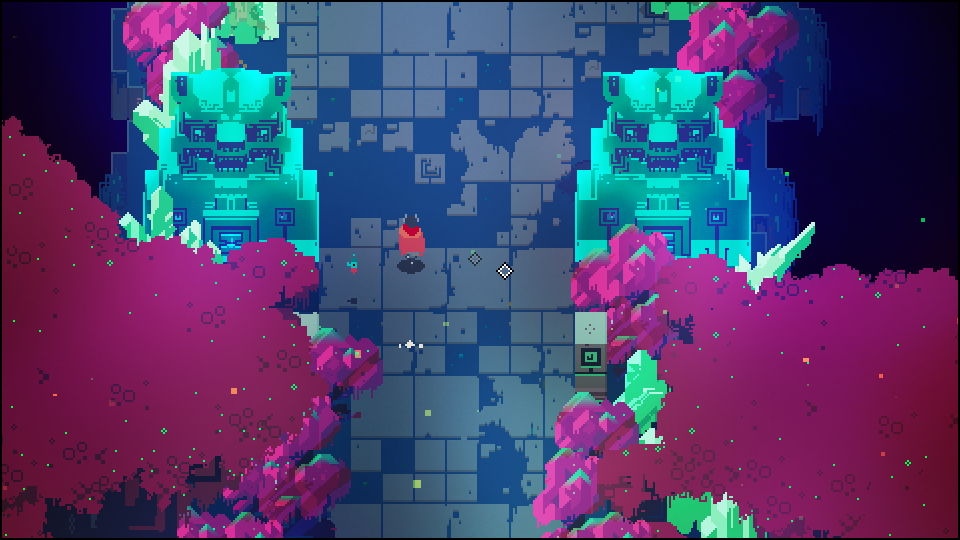player: (396, 214, 429, 267)
